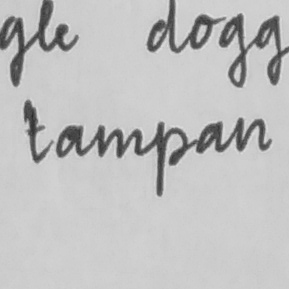a: (54, 122, 88, 160), (194, 117, 226, 155)
m: (94, 121, 146, 161)
n: (231, 115, 273, 155)
p: (151, 119, 191, 199)
t: (19, 97, 53, 165)
